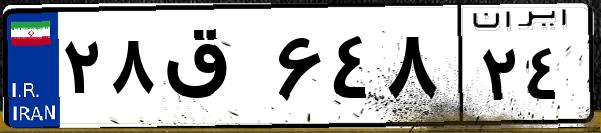2: (57, 26, 110, 100), (475, 38, 525, 113)
4: (330, 28, 385, 110), (525, 38, 570, 115)
6: (270, 28, 330, 110)
8: (385, 28, 445, 110), (110, 28, 158, 98)
ق: (158, 20, 270, 120)
